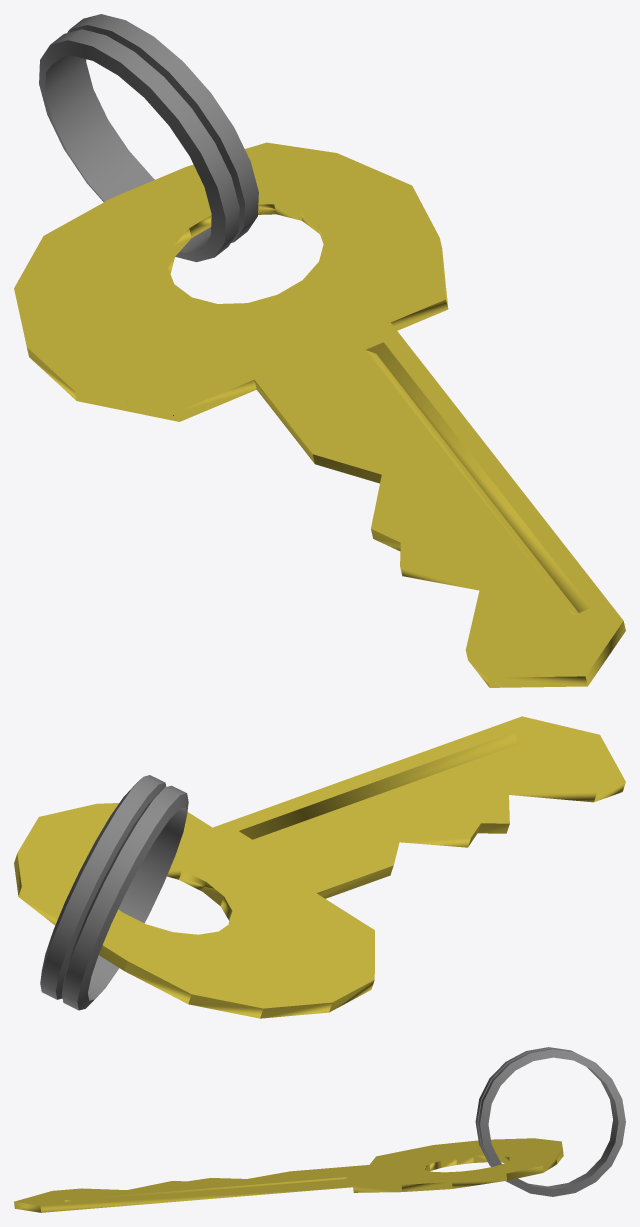
File: KeyNotOnHook001.FBX
The picture shows the model from 3 angles, top to bottom: view 1: azimuth 30°, elevation 25°; view 2: azimuth 150°, elevation 25°; view 3: azimuth 270°, elevation 25°; orthographic projection. The views are drawn at different scales.
Parts seen in each view (by area): view 1: Key002, KeyRing003, KeyRing004; view 2: Key002, KeyRing003, KeyRing004; view 3: Key002, KeyRing004, KeyRing003.
Boxes of the visible parts, bbox=[...] form: Key002: bbox=[14, 142, 625, 687]; KeyRing003: bbox=[39, 29, 239, 262]; KeyRing004: bbox=[64, 14, 258, 242]; Key002: bbox=[14, 716, 625, 1018]; KeyRing003: bbox=[62, 785, 188, 1010]; KeyRing004: bbox=[40, 775, 166, 999]; Key002: bbox=[14, 1138, 563, 1212]; KeyRing004: bbox=[478, 1048, 625, 1196]; KeyRing003: bbox=[475, 1047, 615, 1187].
Size of the model in its own units: 2.98 by 2.49 by 8.
